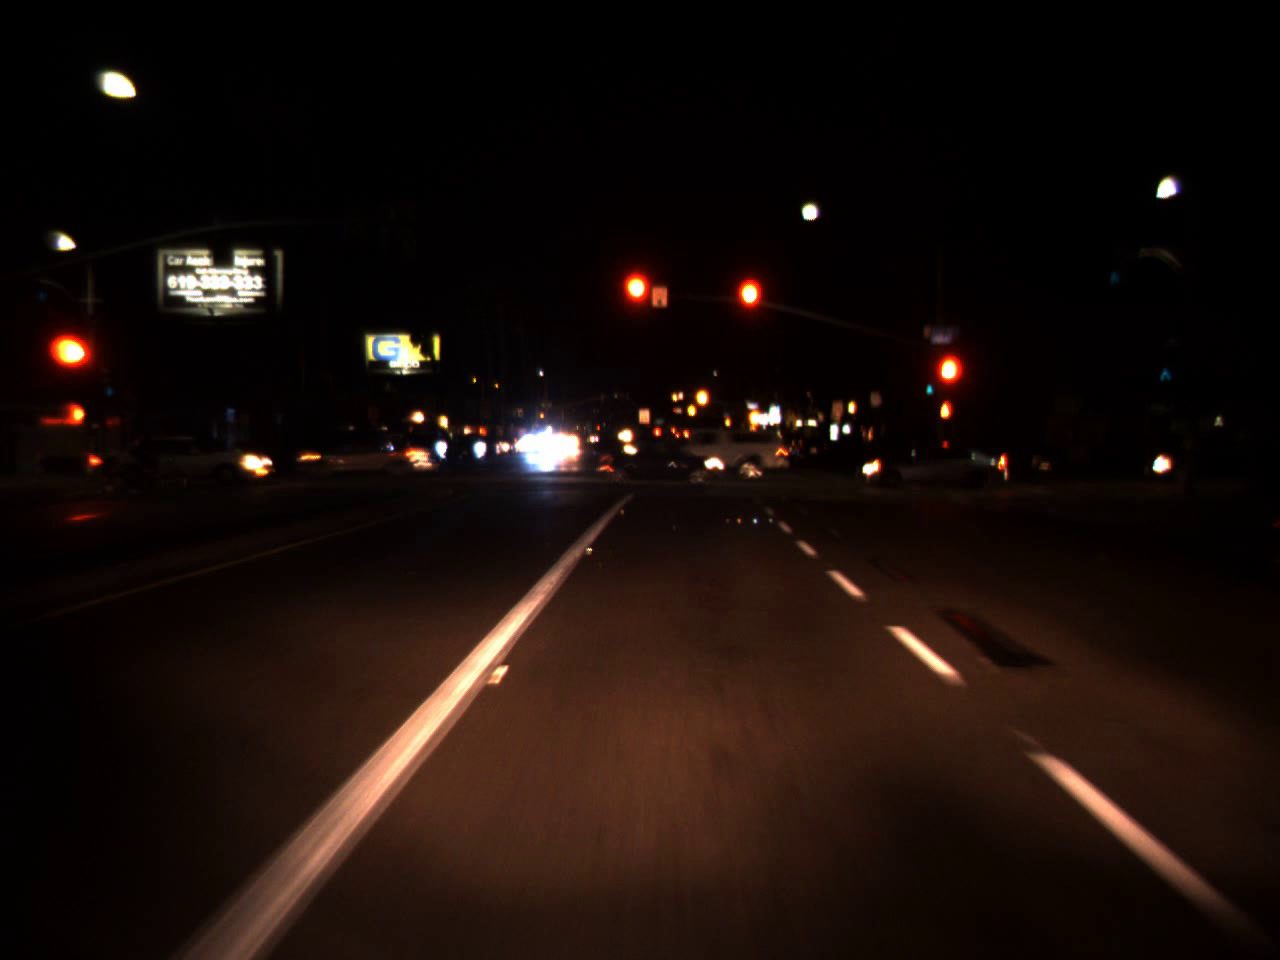stop: (50, 332, 93, 399), (619, 267, 655, 342), (932, 349, 968, 421), (733, 273, 766, 345)
warning: (694, 378, 710, 415), (745, 399, 760, 434), (685, 394, 698, 424), (723, 407, 733, 434)
